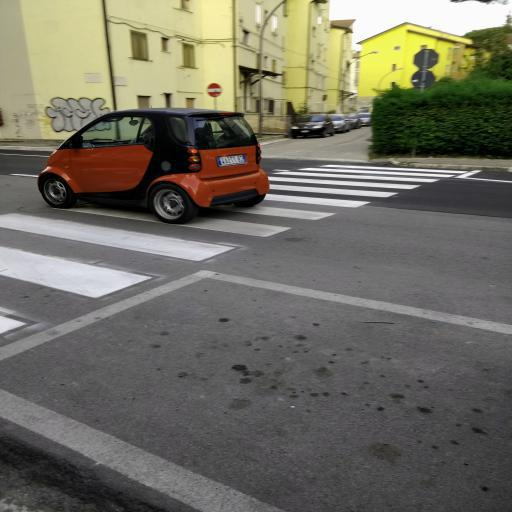crosswalk: (38, 187, 338, 241)
